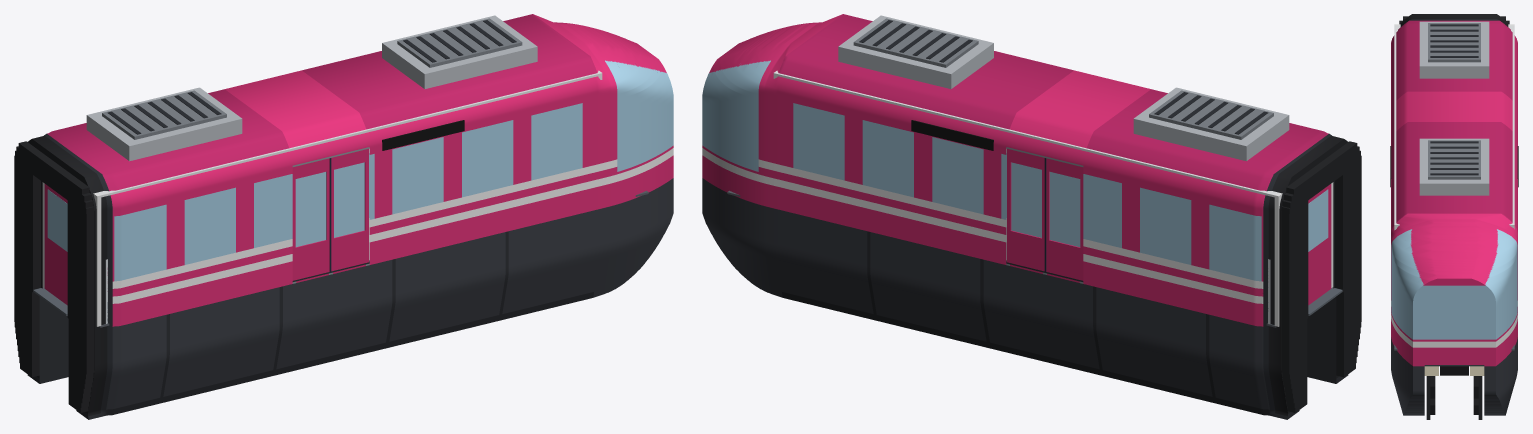
Rendered from mumbai_front.obj.
3 views of the same model, side by side, from view 1: azimuth 30°, elevation 25°; view 2: azimuth 150°, elevation 25°; view 3: azimuth 270°, elevation 25° (orthographic). The views are drawn at different scales.
Visible parts, largest first — view 1: SHELL, SHELL_roof, SHELL_diaphragm, EXTERNAL_DOOR_3_CG_DR1_TOGGLE_TL_-0.69_X, EXTERNAL_DOOR_4_CG_DR1_TOGGLE_TL_0.69_X, CONNECTING_DOOR_1_CG_CR_TOGGLE_TL_0.98_Z, SHELL_ceiling, SHELL_end, SHELL_sign; view 2: SHELL, SHELL_roof, SHELL_diaphragm, EXTERNAL_DOOR_6_CG_DL1_TOGGLE_TL_-0.69_X, EXTERNAL_DOOR_7_CG_DL1_TOGGLE_TL_0.69_X, CONNECTING_DOOR_1_CG_CR_TOGGLE_TL_0.98_Z, SHELL_ceiling, SHELL_end, SHELL_sign; view 3: SHELL, SHELL_roof, SHELL_ceiling, BOGEY_FRONT, HEADLIGHT_1, BOGEY_FRONT_WHEEL_1, SHELL_sign.
Part boxes in pixels (x1=…): SHELL: x1=27, y1=14, x2=673, y2=419; SHELL_roof: x1=86, y1=15, x2=537, y2=161; SHELL_diaphragm: x1=14, y1=141, x2=94, y2=412; EXTERNAL_DOOR_3_CG_DR1_TOGGLE_TL_-0.69_X: x1=292, y1=158, x2=331, y2=280; EXTERNAL_DOOR_4_CG_DR1_TOGGLE_TL_0.69_X: x1=331, y1=149, x2=368, y2=271; CONNECTING_DOOR_1_CG_CR_TOGGLE_TL_0.98_Z: x1=44, y1=184, x2=67, y2=305; SHELL_ceiling: x1=27, y1=73, x2=598, y2=197; SHELL_end: x1=27, y1=141, x2=101, y2=326; SHELL_sign: x1=382, y1=120, x2=464, y2=150; SHELL: x1=702, y1=14, x2=1348, y2=419; SHELL_roof: x1=838, y1=15, x2=1289, y2=161; SHELL_diaphragm: x1=1281, y1=141, x2=1361, y2=412; EXTERNAL_DOOR_6_CG_DL1_TOGGLE_TL_-0.69_X: x1=1044, y1=158, x2=1083, y2=280; EXTERNAL_DOOR_7_CG_DL1_TOGGLE_TL_0.69_X: x1=1007, y1=149, x2=1044, y2=271; CONNECTING_DOOR_1_CG_CR_TOGGLE_TL_0.98_Z: x1=1308, y1=184, x2=1331, y2=305; SHELL_ceiling: x1=777, y1=73, x2=1348, y2=197; SHELL_end: x1=1274, y1=182, x2=1333, y2=326; SHELL_sign: x1=911, y1=120, x2=993, y2=150; SHELL: x1=1391, y1=14, x2=1517, y2=415; SHELL_roof: x1=1419, y1=21, x2=1489, y2=195; SHELL_ceiling: x1=1394, y1=25, x2=1514, y2=223; BOGEY_FRONT: x1=1426, y1=376, x2=1482, y2=419; HEADLIGHT_1: x1=1424, y1=366, x2=1484, y2=375; BOGEY_FRONT_WHEEL_1: x1=1440, y1=366, x2=1468, y2=375; SHELL_sign: x1=1390, y1=146, x2=1518, y2=187.
Bounding box in the file's own units: 11.65 × 4.81 × 2.66.
Materials: 1 (1 with a texture image).
